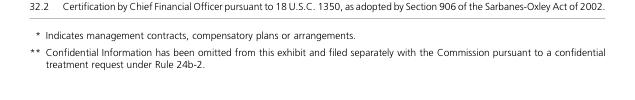table: (28, 28, 604, 69)
table column: (42, 28, 604, 69), (28, 28, 42, 69)
table row: (28, 42, 604, 69), (28, 28, 604, 42)
